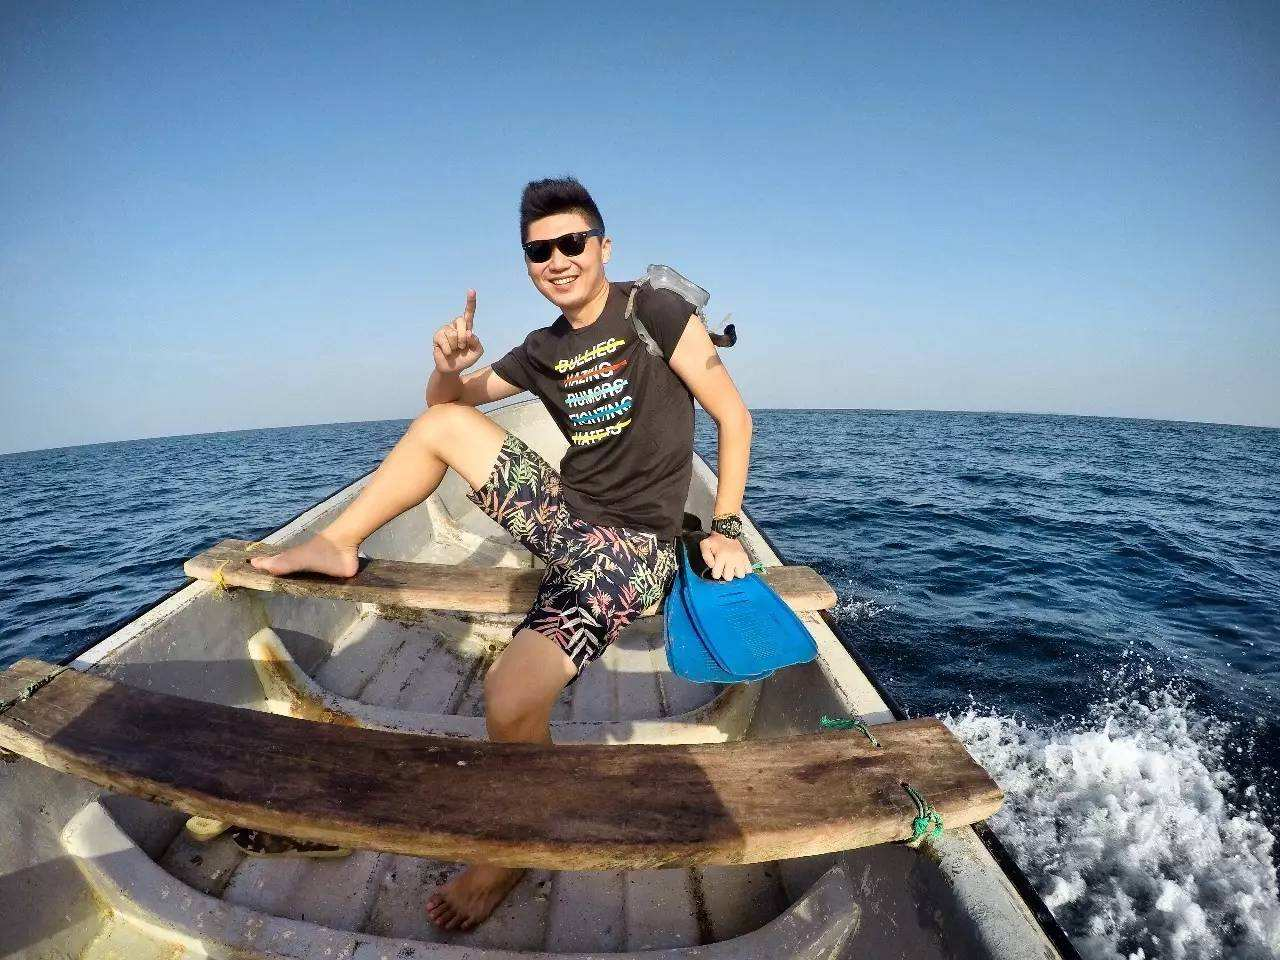person: (364, 141, 792, 675)
